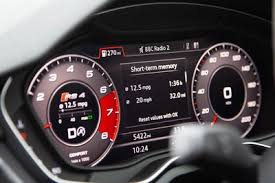Digital_Meter: (127, 132, 171, 154)
